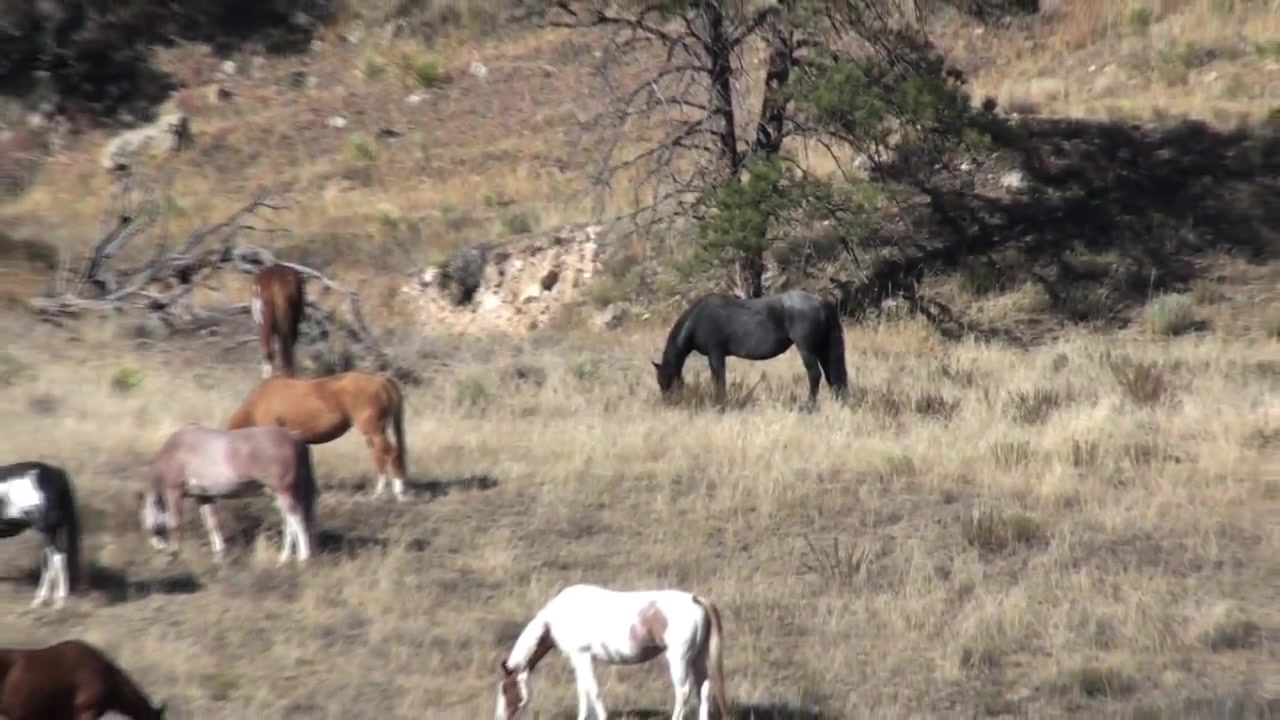horse: (656, 285, 856, 418)
